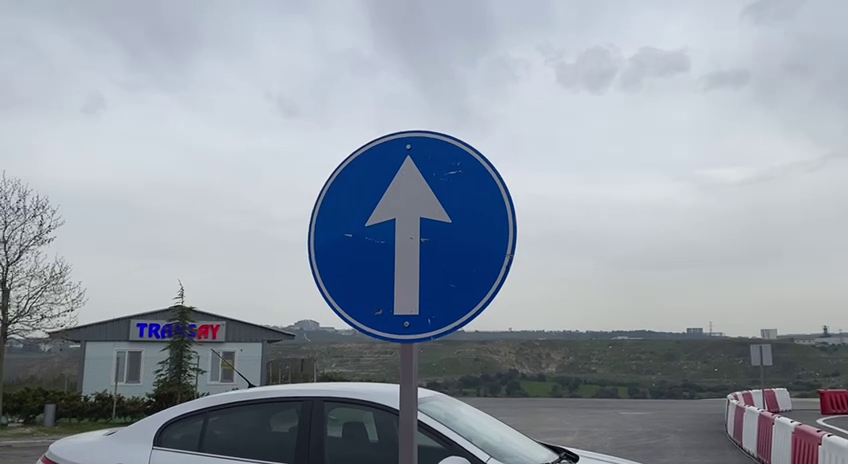forward: (304, 126, 521, 343)
